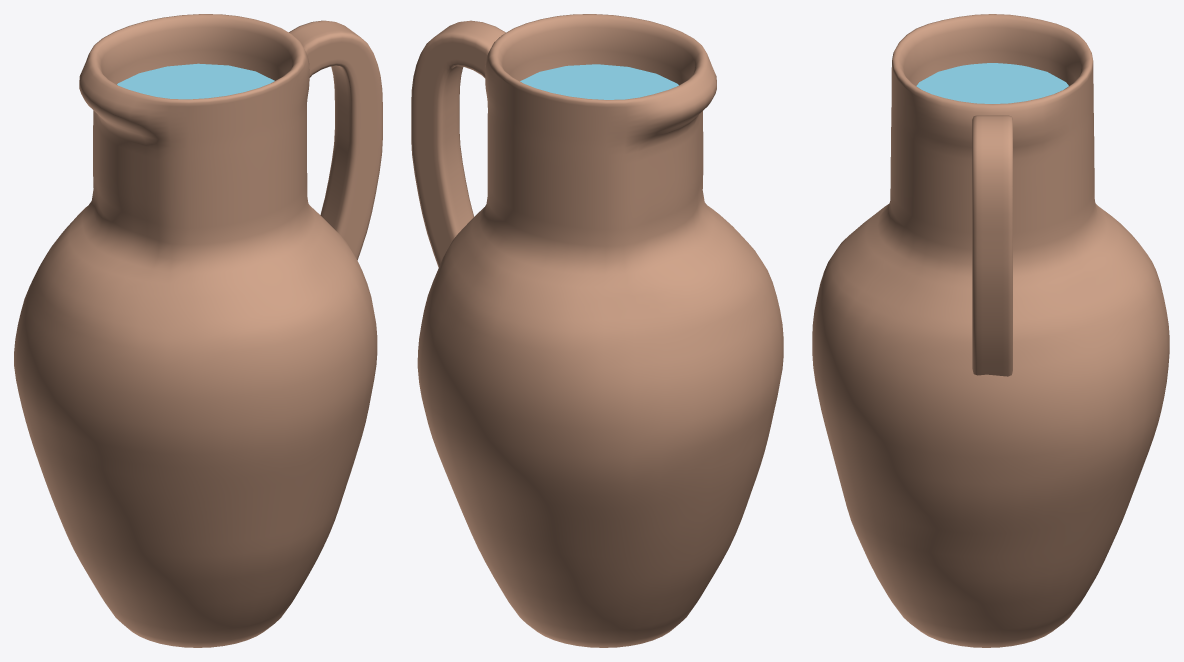
File: Jug_505.gltf
The picture shows the model from 3 angles, left to right: view 1: azimuth 30°, elevation 25°; view 2: azimuth 150°, elevation 25°; view 3: azimuth 270°, elevation 25°; orthographic projection.
Parts seen in each view (by area): view 1: node-0; view 2: node-0; view 3: node-0.
Part boxes in pixels (x1,y1,x2,y2): node-0: (14, 14, 382, 647); node-0: (411, 14, 783, 647); node-0: (812, 14, 1169, 647).
Size of the model in its own units: 21.79 by 34.82 by 19.99.
